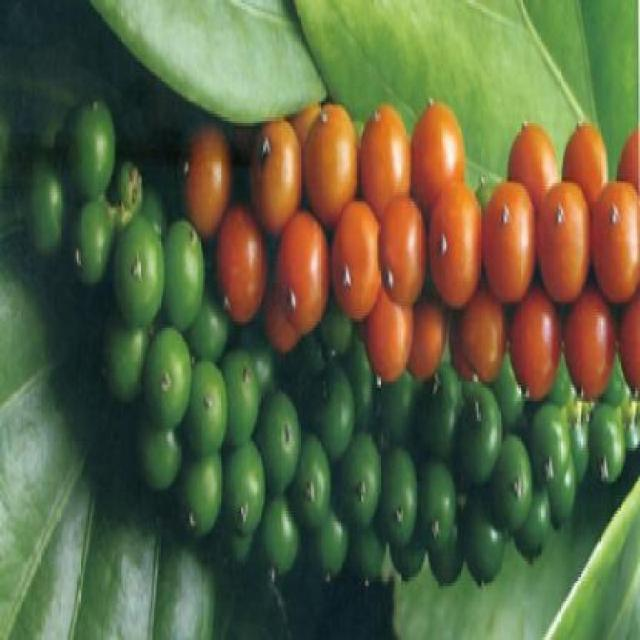RIPE: (197, 103, 638, 359)
UNRIPE: (102, 369, 633, 589)
